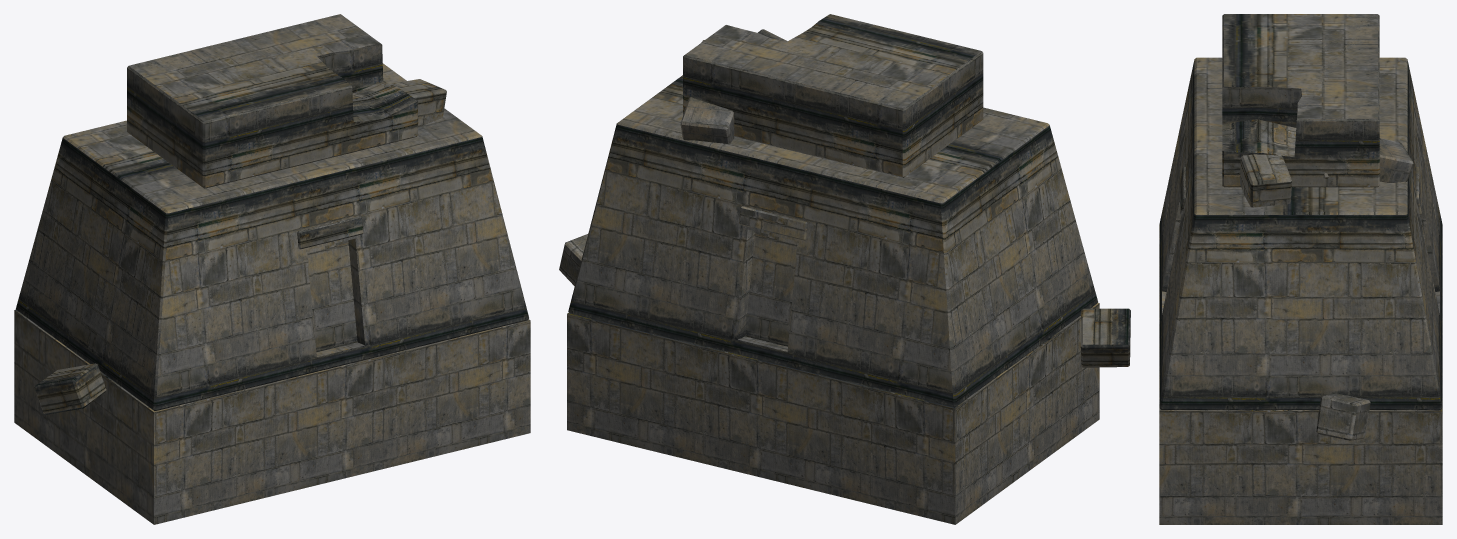
The model's file is mastaba.glb.
3 views of the same model, side by side, from view 1: azimuth 30°, elevation 25°; view 2: azimuth 150°, elevation 25°; view 3: azimuth 270°, elevation 25° (orthographic). The views are drawn at different scales.
Visible parts, largest first — view 1: mastaba; view 2: mastaba; view 3: mastaba.
Part boxes in pixels (<box>): mastaba: <box>14,14,530,524</box>; mastaba: <box>559,14,1130,524</box>; mastaba: <box>1159,14,1442,524</box>.
Bounding box in the file's own units: 9.36 × 6.4 × 4.5.
1 material, 1 textured.
